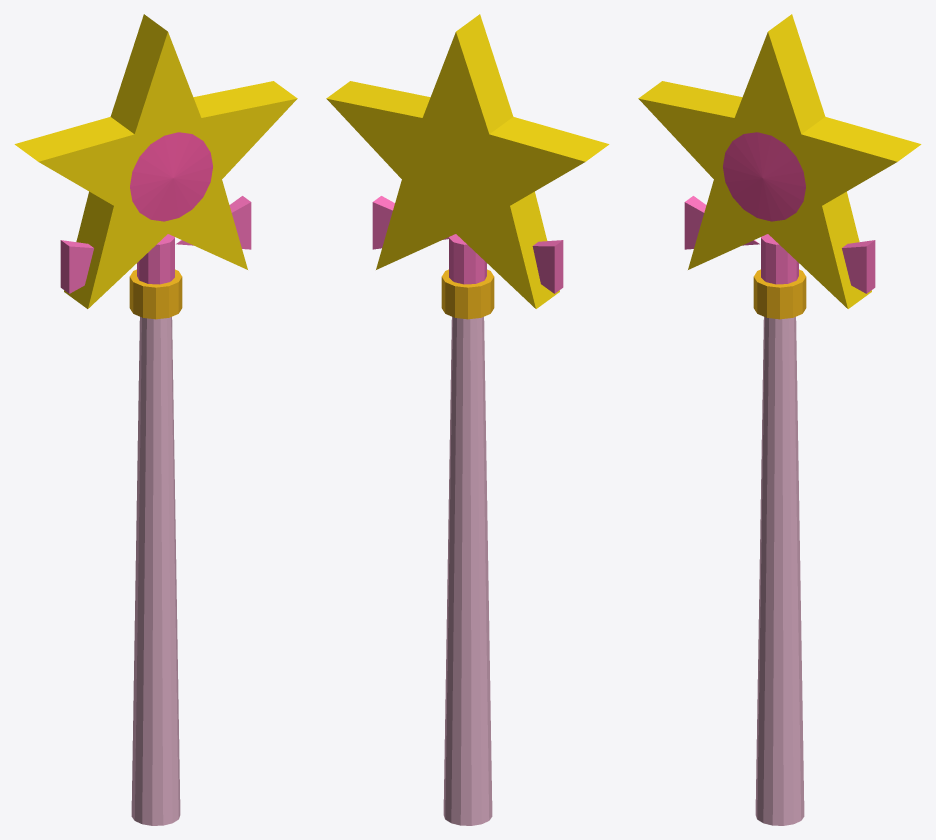
File: Magic Wand.fbx
3 views of the same model, side by side, from view 1: azimuth 30°, elevation 25°; view 2: azimuth 150°, elevation 25°; view 3: azimuth 330°, elevation 25° (orthographic).
Parts seen in each view (by area): view 1: Star, Stick, Gem, Band, BowL, BowKnot, BowR; view 2: Star, Stick, Band, BowKnot, BowL, BowR; view 3: Star, Stick, Gem, Band, BowR, BowKnot, BowL.
Part boxes in pixels (box(x1,y1,x2,y2)): Star: box(14, 14, 297, 308); Stick: box(131, 317, 180, 825); Gem: box(130, 132, 212, 221); Band: box(129, 269, 182, 319); BowL: box(60, 240, 93, 293); BowKnot: box(137, 234, 174, 284); BowR: box(176, 196, 251, 249); Star: box(326, 14, 609, 308); Stick: box(443, 317, 492, 825); Band: box(441, 269, 494, 319); BowKnot: box(449, 234, 486, 284); BowL: box(532, 240, 563, 293); BowR: box(372, 196, 448, 249); Star: box(638, 14, 921, 308); Stick: box(755, 317, 804, 825); Gem: box(723, 132, 805, 221); Band: box(753, 269, 806, 319); BowR: box(842, 240, 875, 293); BowKnot: box(761, 234, 798, 284); BowL: box(684, 196, 759, 249).
Bounding box in the file's own units: 34.24 × 100 × 6.95.
Materials: 5 (5 with a texture image).
